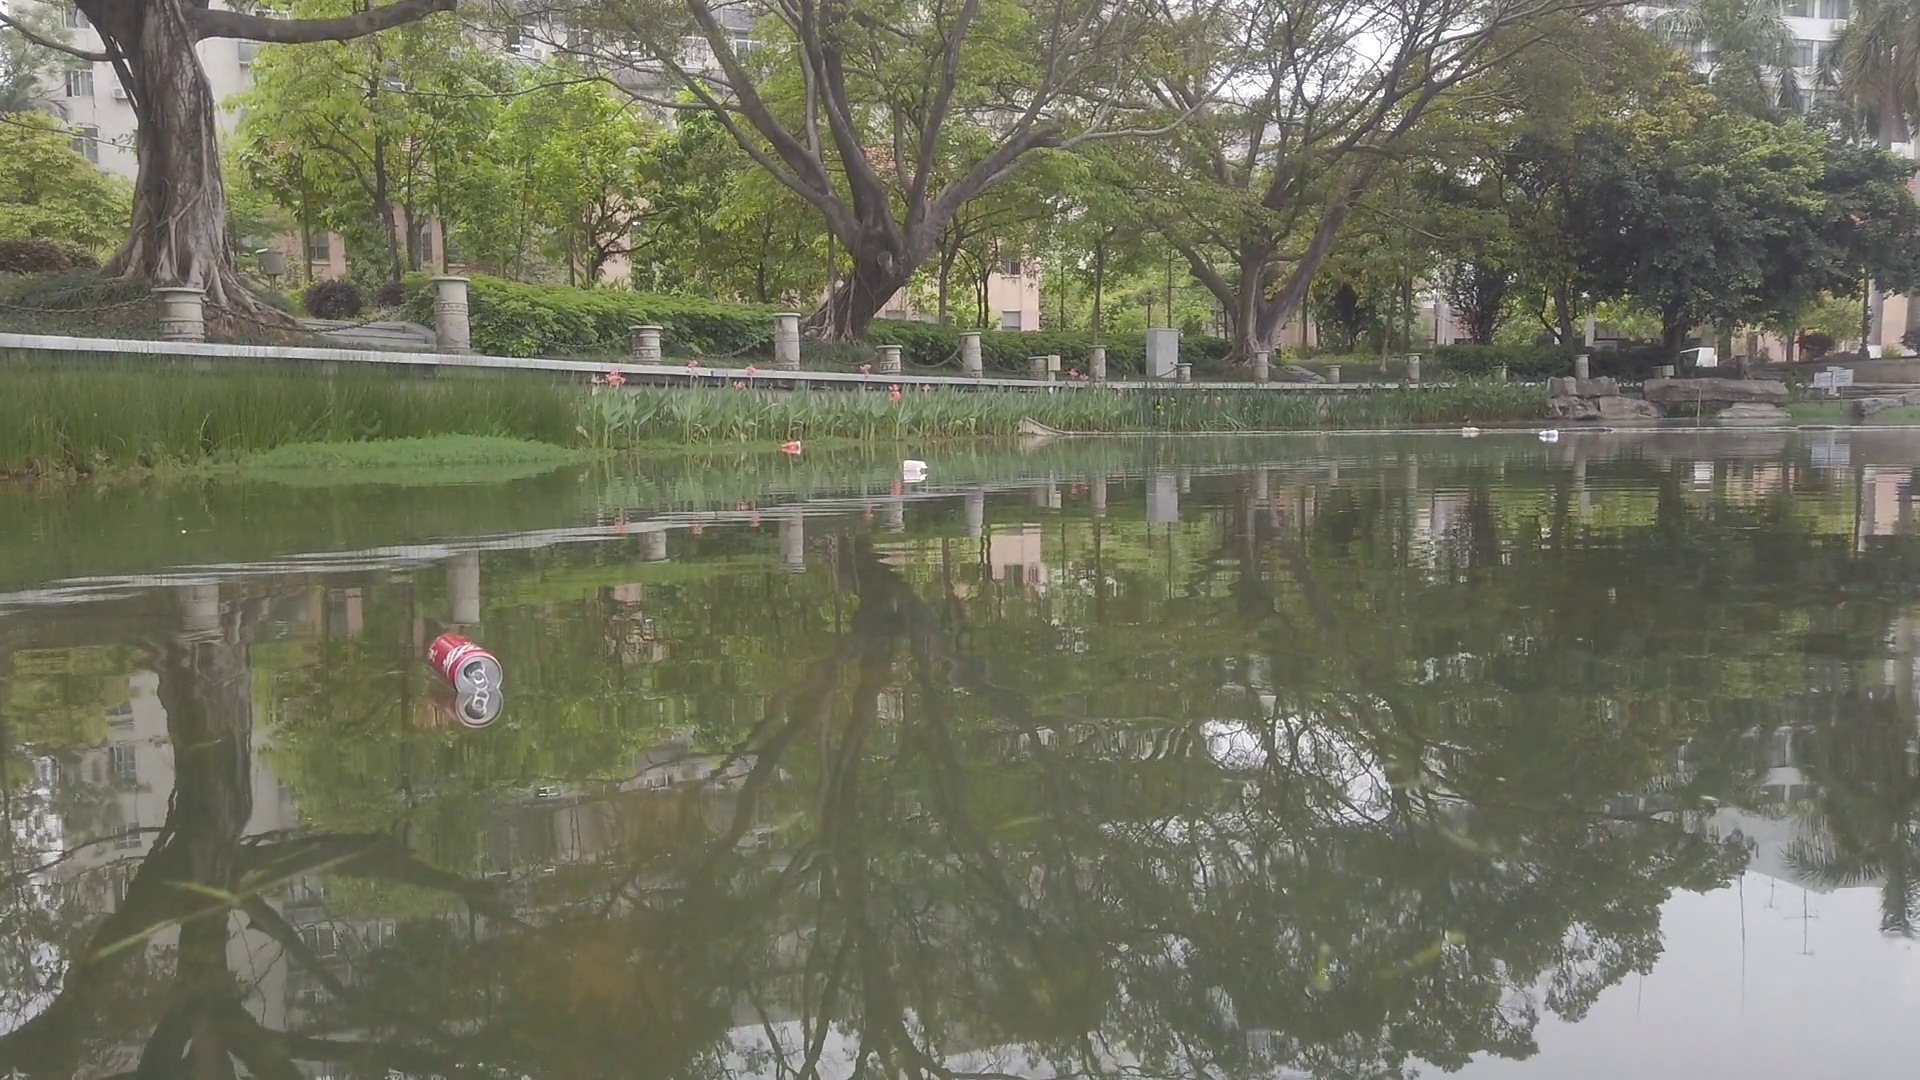bottle: (426, 632, 502, 700), (782, 442, 800, 454), (1540, 429, 1559, 440), (1462, 425, 1480, 435)
carton: (902, 459, 926, 473)
